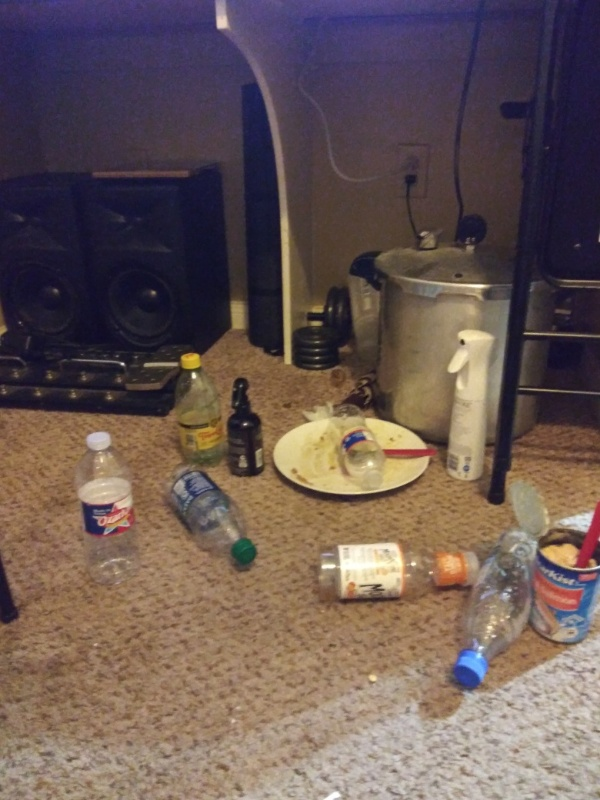bottle: (446, 527, 548, 691), (153, 459, 263, 568), (309, 542, 482, 606), (74, 430, 142, 587), (167, 350, 230, 467), (327, 400, 387, 488)
